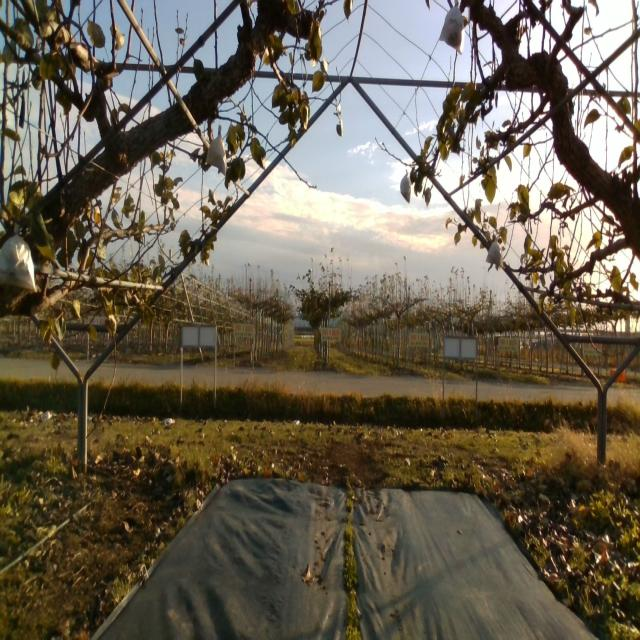pearbags: (0, 222, 37, 288), (438, 1, 462, 54), (205, 123, 229, 172), (486, 234, 504, 268), (400, 172, 412, 202)
